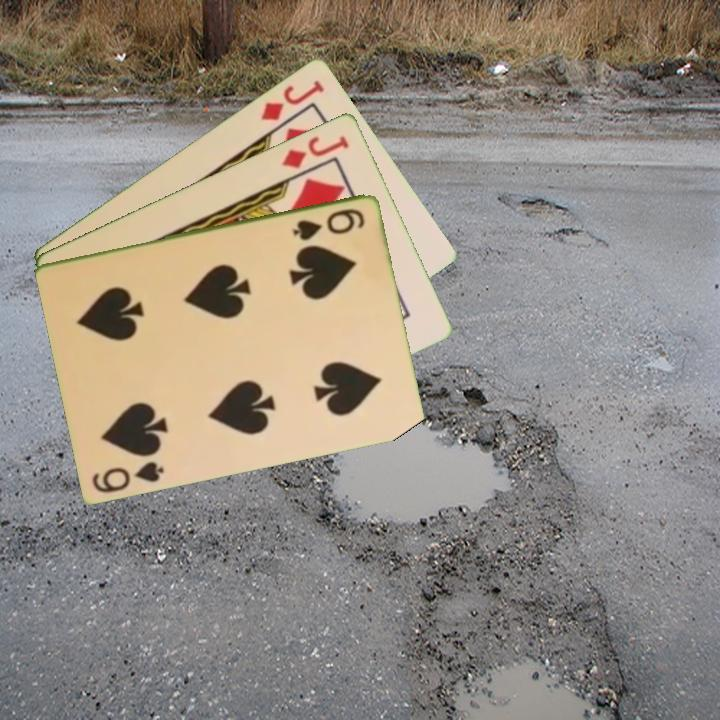6s: (290, 204, 368, 243), (89, 457, 167, 496)
Jd: (257, 75, 328, 123), (278, 131, 352, 171)
